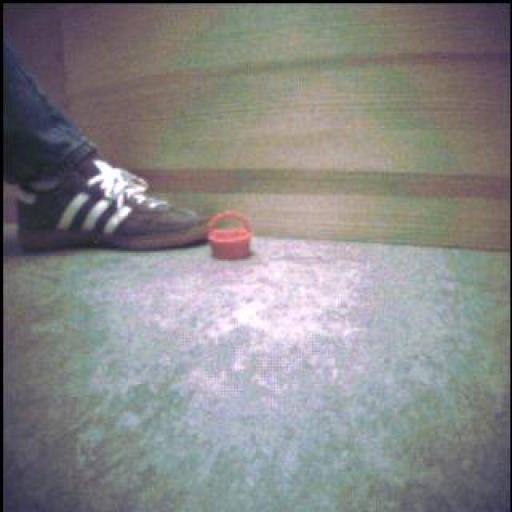Bucket: (209, 212, 254, 260)
